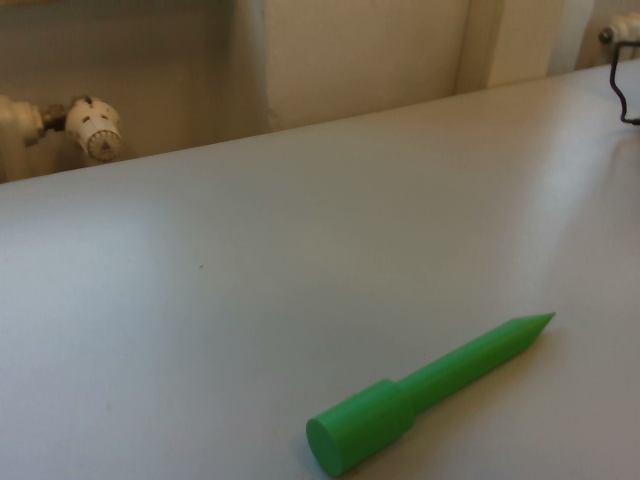Probe: (300, 303, 572, 479)
